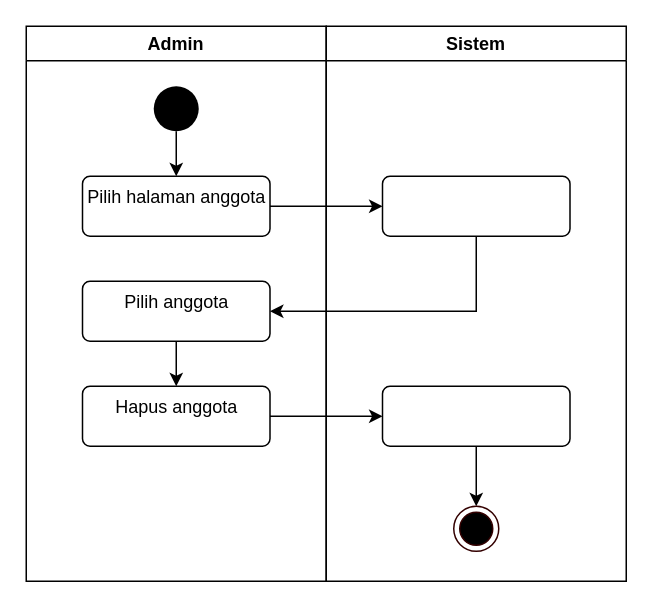
This 653x608 diagram has some shape labels left out. The box of each missing label's shape, as (x1, y1, x2, y2) in pixels:
Anggota dihapus: (381, 385, 570, 446)
Menampilkan halaman anggota: (381, 175, 570, 236)
